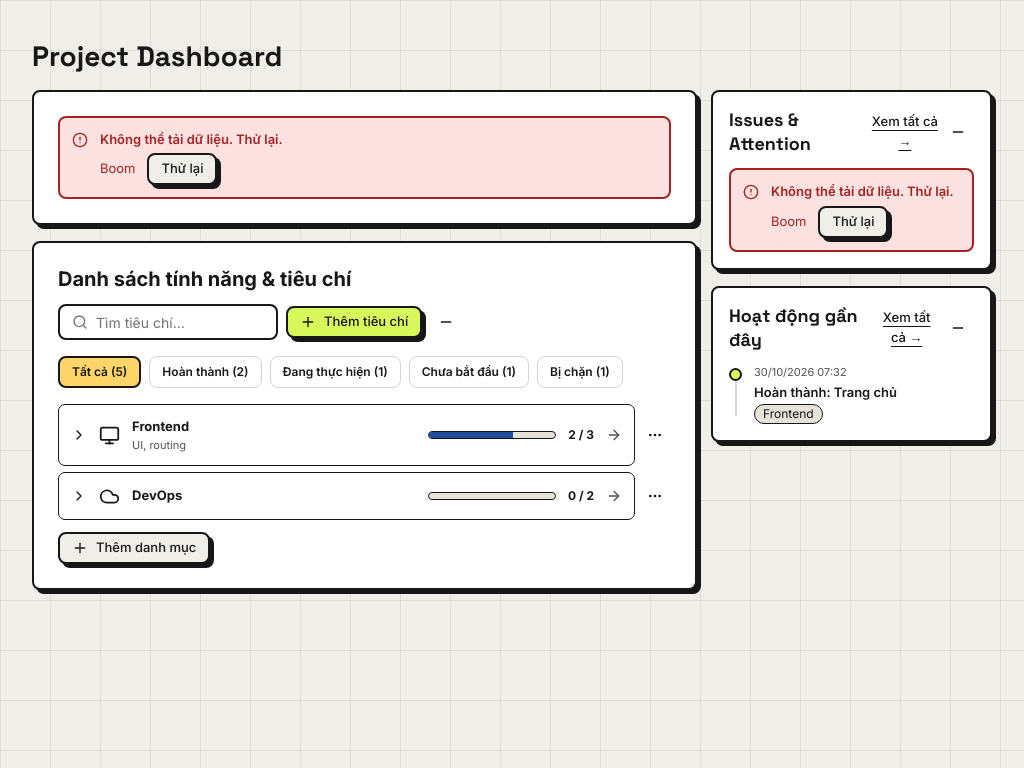
Test: Module A: overview › shows a retry when the stats fail
This screenshot has width=1024, height=768.
Click the 1st button "Thử lại": (182, 169) top-left (148, 153), bottom-right (217, 185)
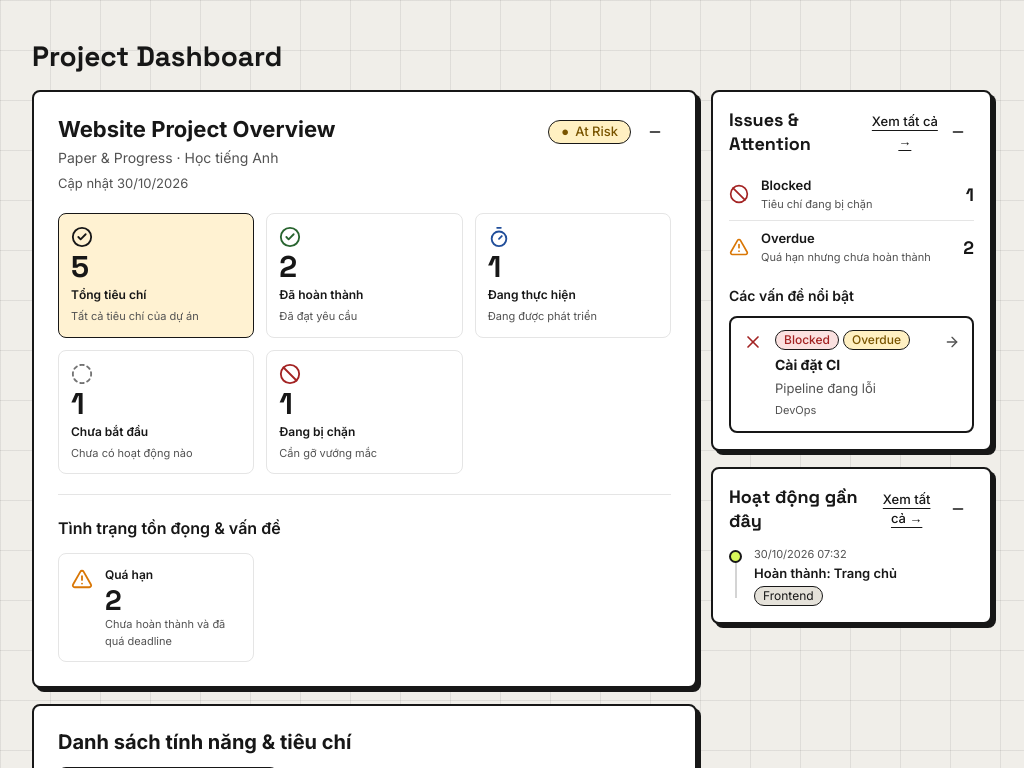
Now the heading "Website Project Overview" is shown, box top-left (58, 116), bottom-right (335, 143)
